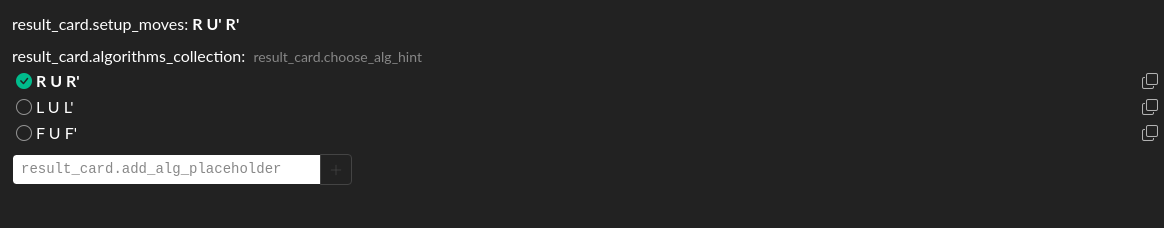
Test: adding your own alg › silently reveals a duplicate that was hidden past the cutoff
Type "D R D'" into the field with placeholder "result_card.add_alg_placeholder" at [166, 170], box left=12, top=154, right=321, bottom=185
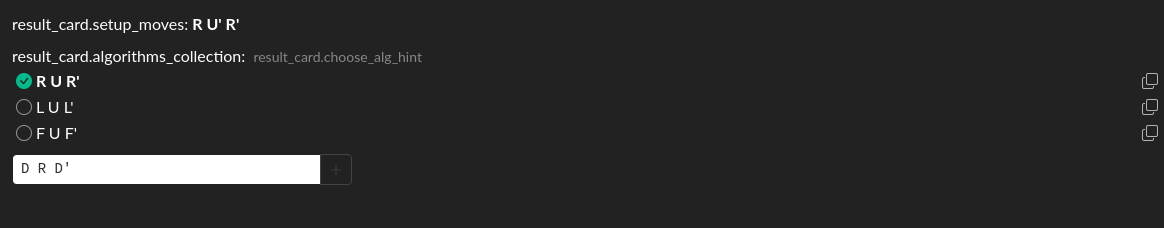
Press Enter in the field, box left=12, top=154, right=321, bottom=185
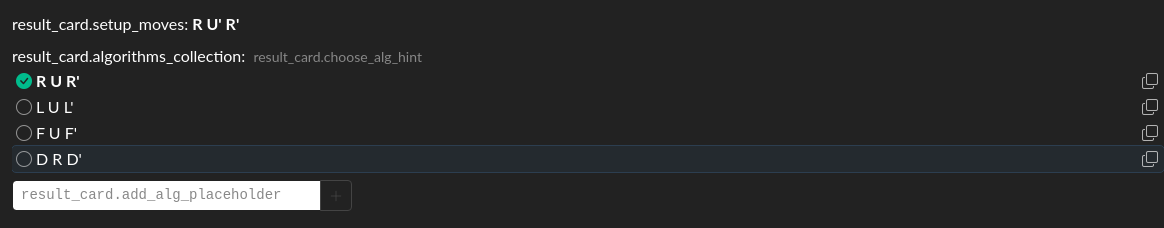
Now the text "D R D'" is shown, box left=36, top=147, right=82, bottom=171
Now the list item with class "just-revealed" is shown, box left=12, top=146, right=1163, bottom=172
Now the field with placeholder "result_card.add_alg_placeholder" is empty, box left=12, top=180, right=321, bottom=211
